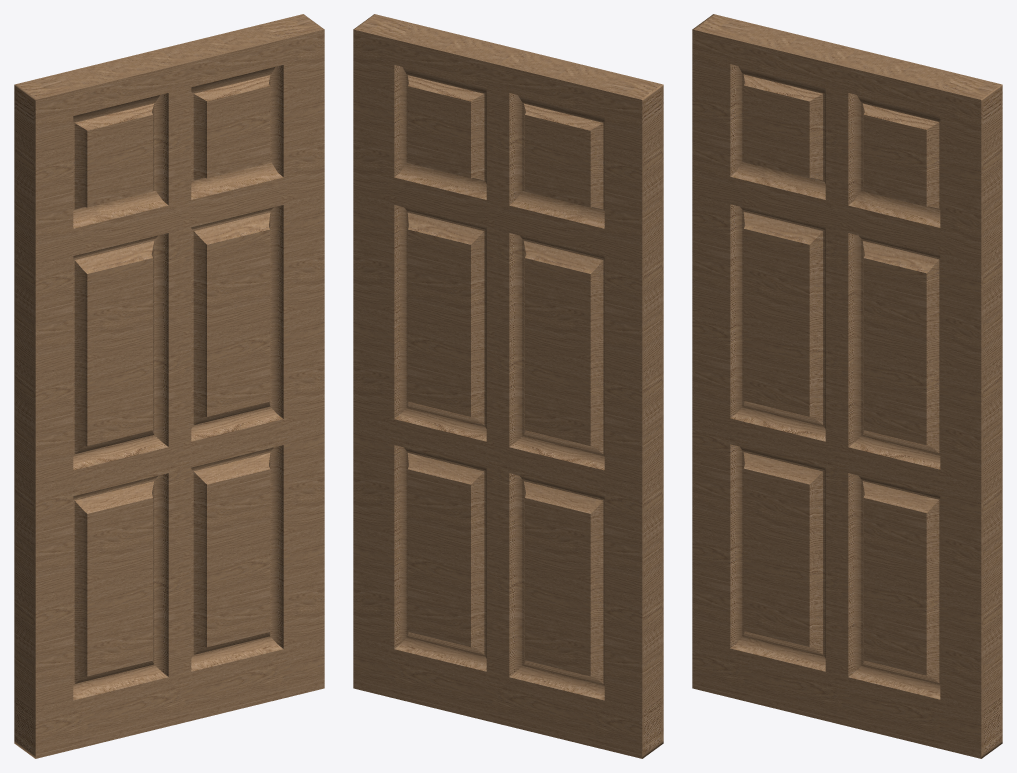
Rendered from InteriorDoor2.obj.
The picture shows the model from 3 angles, left to right: view 1: azimuth 30°, elevation 25°; view 2: azimuth 150°, elevation 25°; view 3: azimuth 330°, elevation 25°; orthographic projection.
Parts seen in each view (by area): view 1: InteriorDoor2; view 2: InteriorDoor2; view 3: InteriorDoor2.
Part boxes in pixels (bbox=[...]): InteriorDoor2: bbox=[14, 14, 324, 758]; InteriorDoor2: bbox=[353, 14, 663, 758]; InteriorDoor2: bbox=[692, 14, 1002, 758].
Size of the model in its own units: 0.9779 by 2.13 by 0.126.
Materials: 1 (1 with a texture image).
